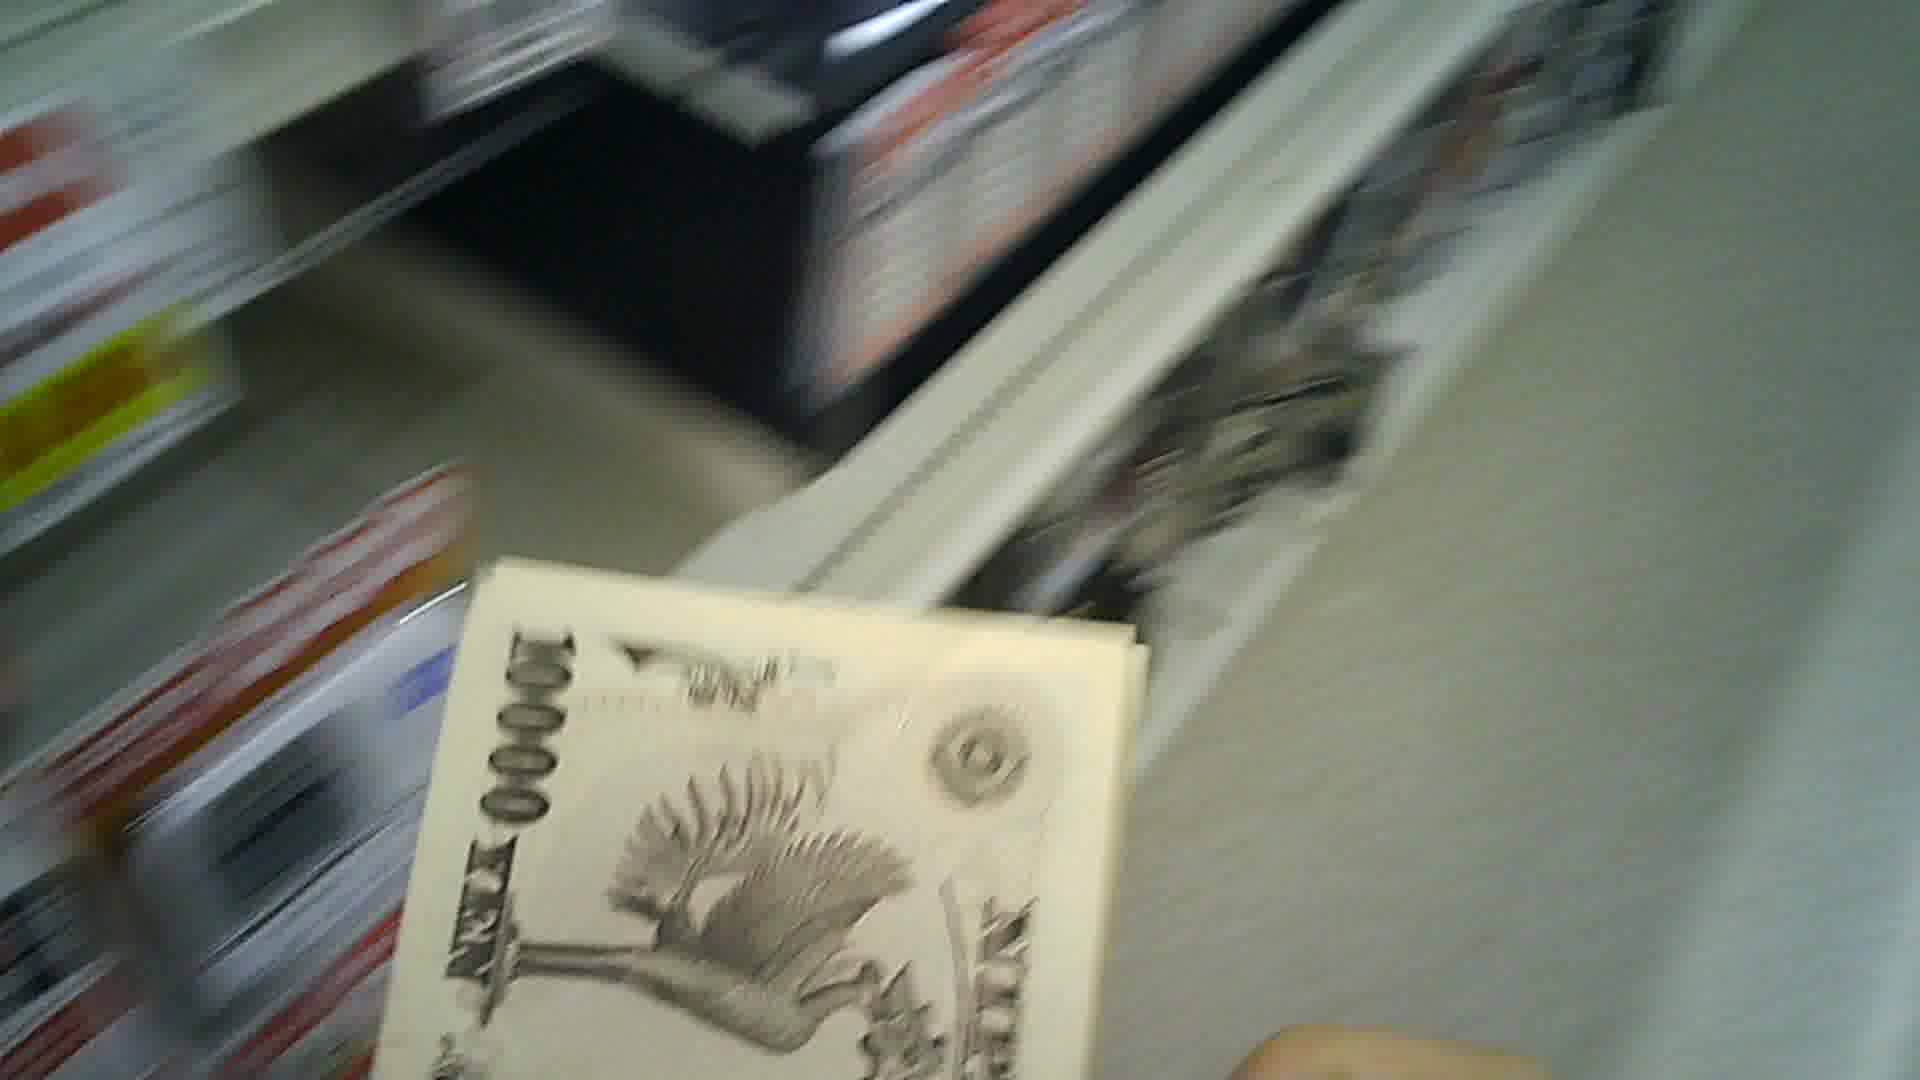10,000 Yen: (392, 527, 1084, 1079)
